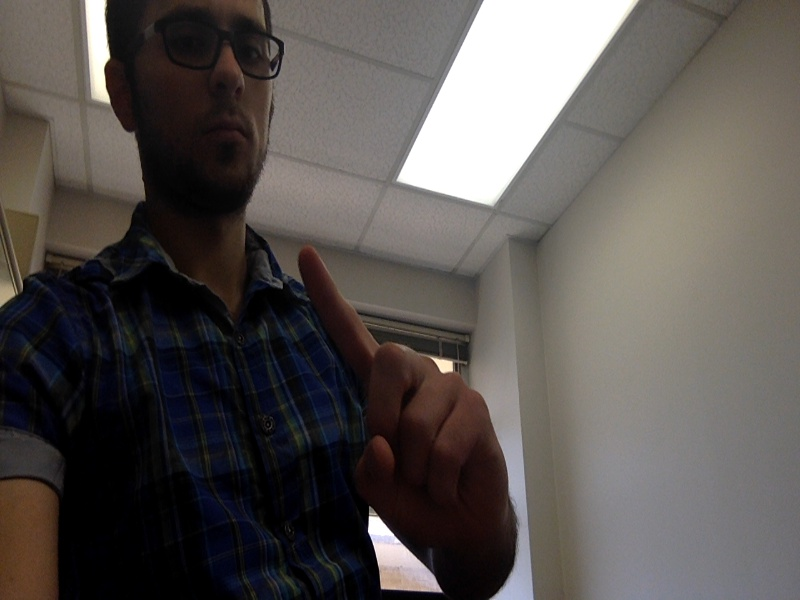1-hand: (294, 246, 519, 552)
